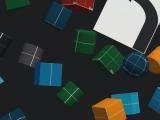Left: (93, 0, 160, 54)
